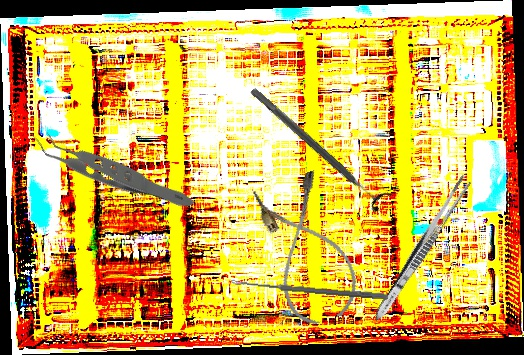Cannula: (249, 168, 367, 331)
Dressing Forceps: (369, 171, 475, 326)
Fixation Ring: (243, 79, 394, 216)
Surgical Spoon: (230, 279, 389, 300)
Tissue Forceps: (29, 79, 195, 257)
